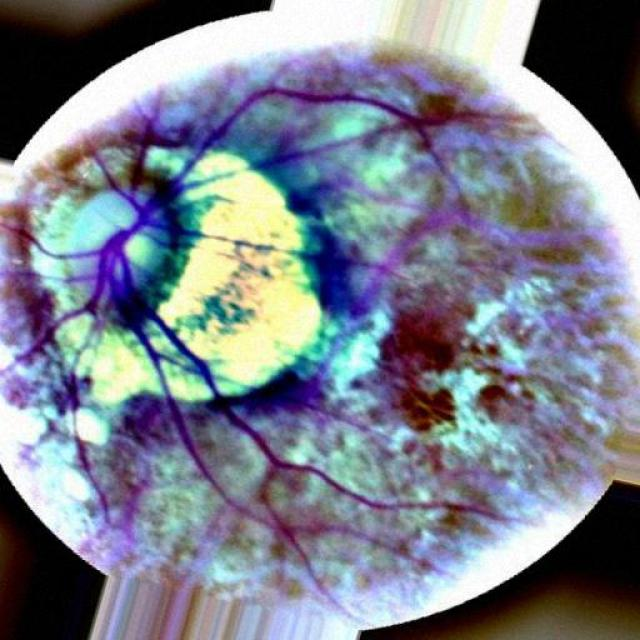Macula: (384, 309, 466, 386)
Nerves: (143, 306, 442, 622), (17, 220, 204, 455), (155, 88, 369, 200)
Optic Disk: (54, 175, 231, 347)
